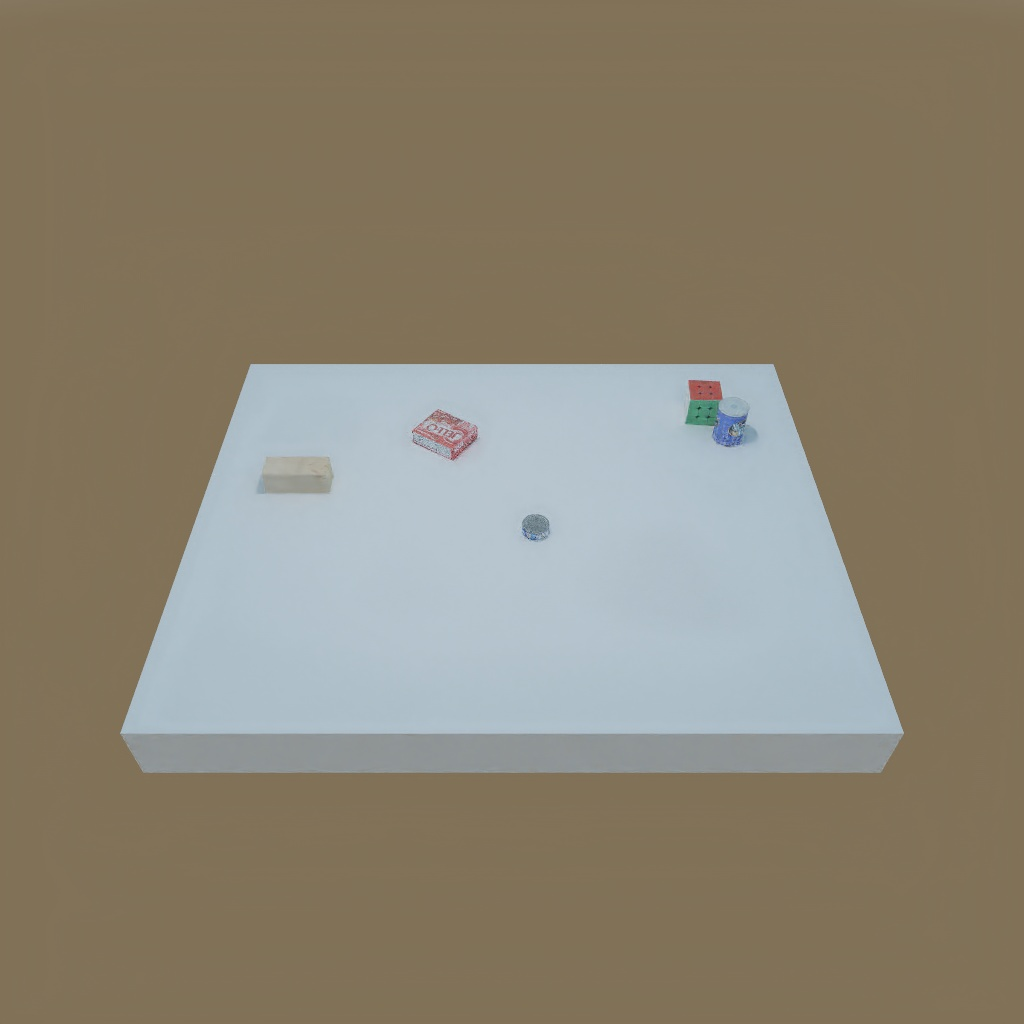gelatin_box: (410, 412, 475, 456)
master_chef_can: (710, 397, 750, 450)
rubiks_cube: (680, 376, 726, 424)
wood_block: (259, 456, 333, 494)
